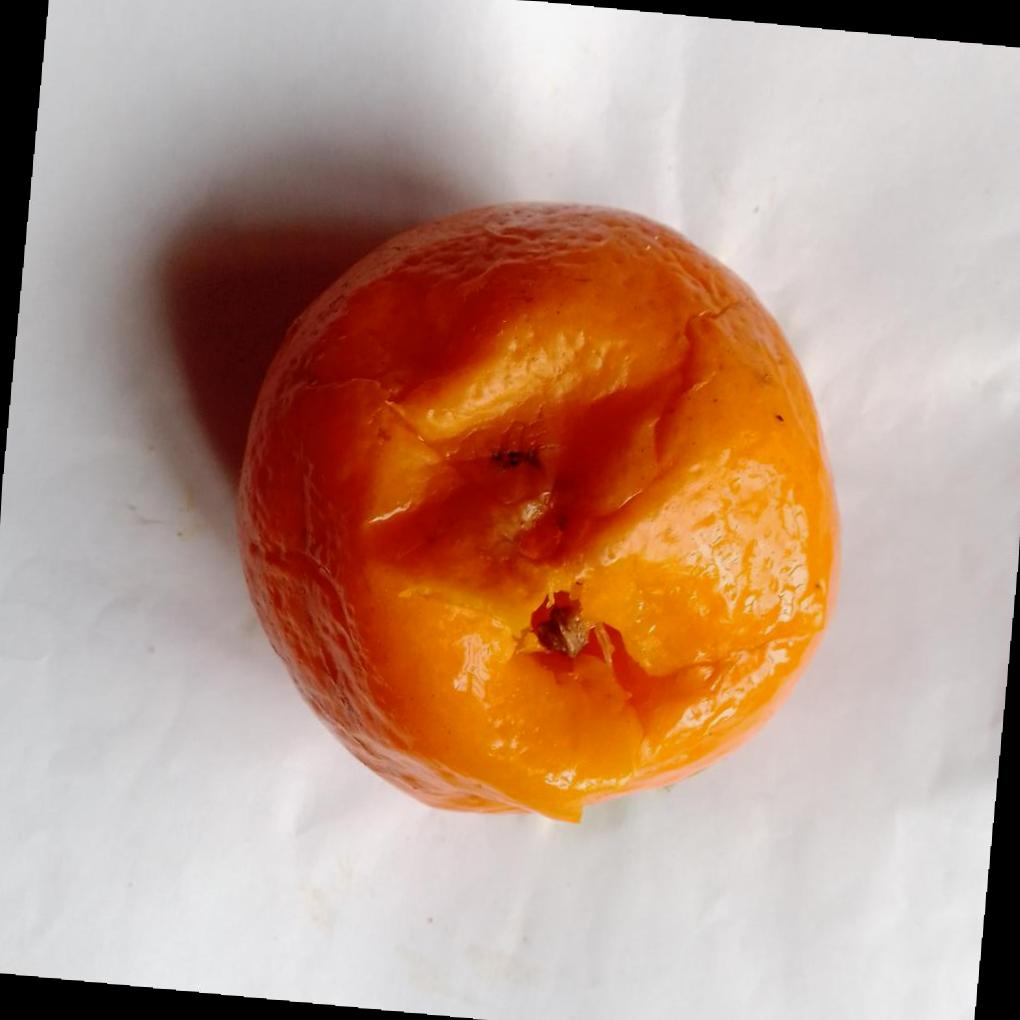FreshOrange: (231, 199, 838, 823)
